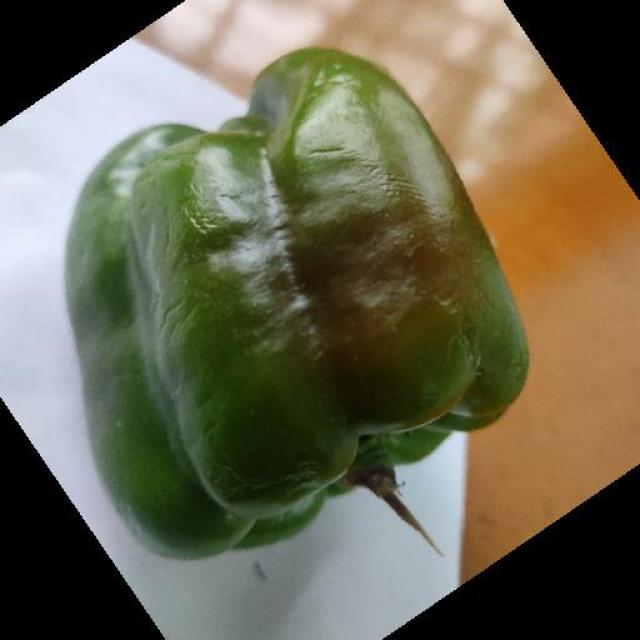Stale_Capsicum: (76, 88, 479, 451)
